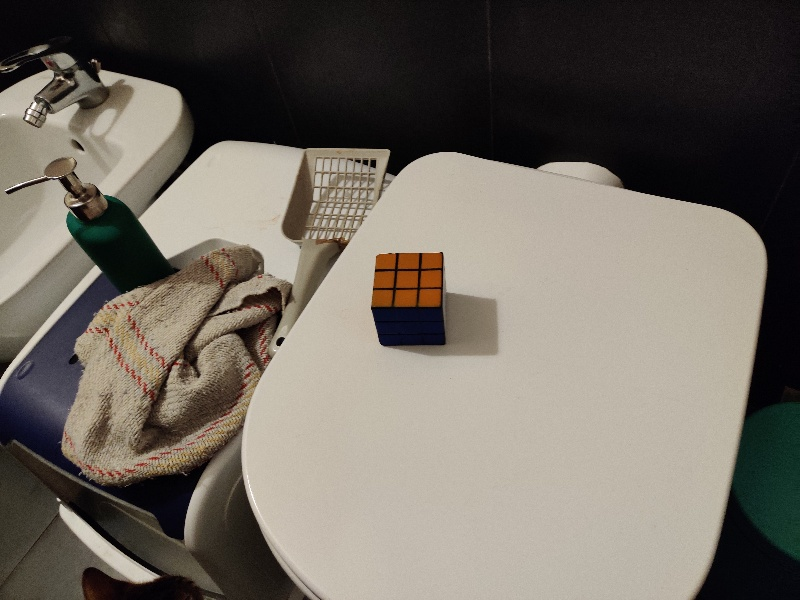rubik: (372, 254, 448, 348)
